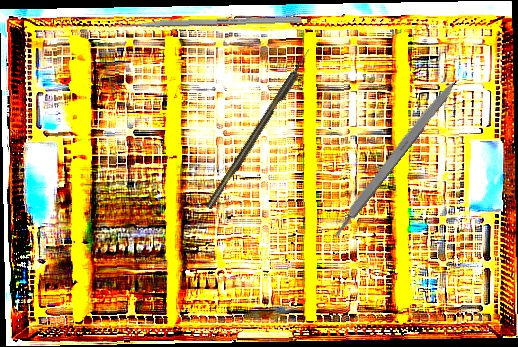Hook Surgical: (204, 47, 315, 211)
Pusher: (104, 15, 302, 30)
Scalpel Handle: (327, 75, 461, 240)
